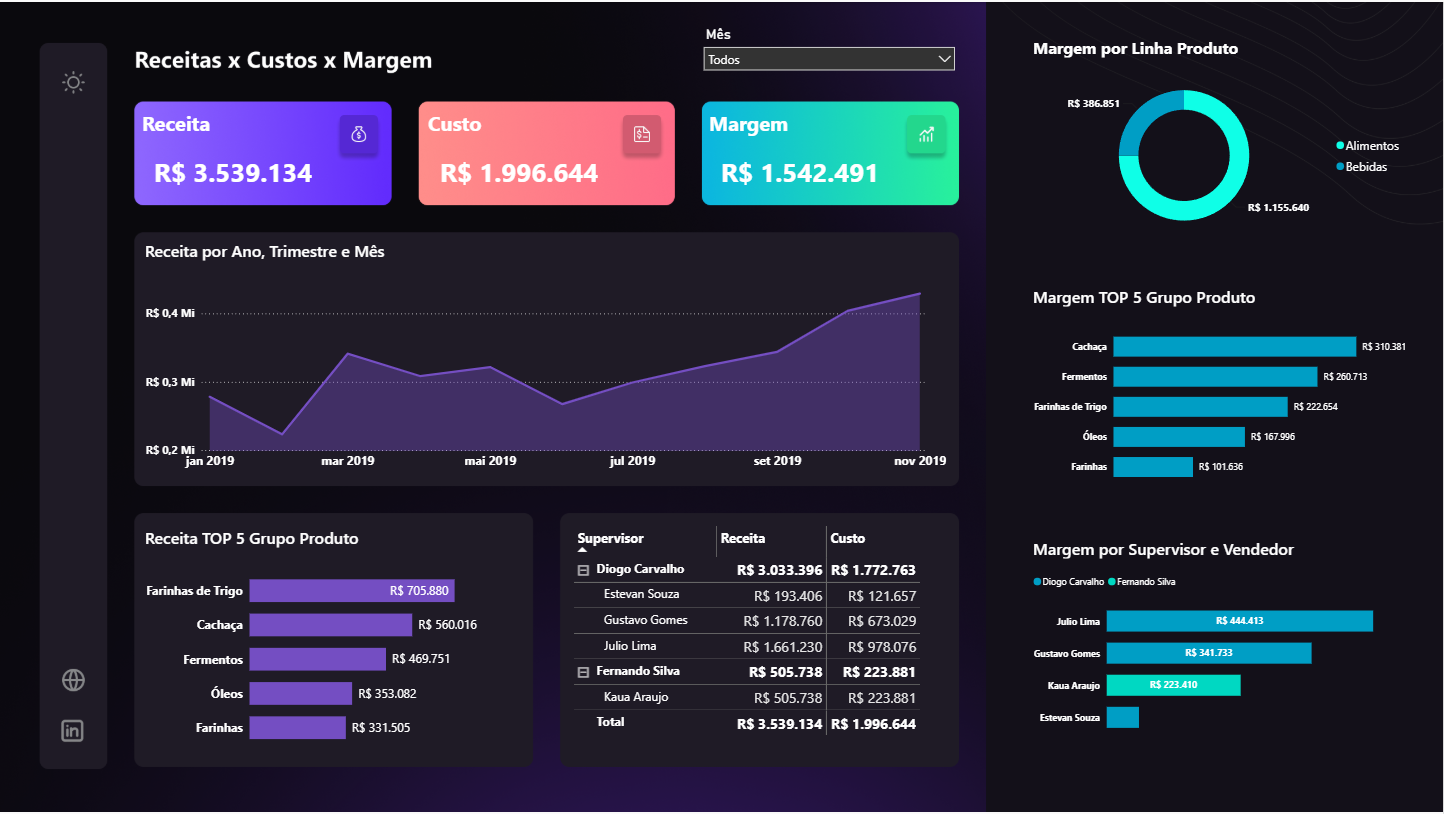

The page's visual inventory and layout, read from the dashboard file:
{"tool":"powerbi","page":{"name":"Página 1","canvas":[1920,1080],"ordinal":0},"visuals":[{"type":"cardVisual","title":"Receita","fields":{"Data":["Vendas.R$ Receita"]},"box":[190.5,142.1,331.1,114.9],"z":0},{"type":"cardVisual","title":"Custo","fields":{"Data":["Vendas.R$ Custo"]},"box":[570,142.1,331.1,114.9],"z":1000},{"type":"cardVisual","title":"Margem","fields":{"Data":["Vendas.R$ Margem"]},"box":[944.9,142.1,331.1,114.9],"z":2000},{"type":"areaChart","title":"Receita por Ano, Trimestre e Mês","fields":{"Category":["Vendas.Datas.Variation.Hierarquia de datas.Ano","Vendas.Datas.Variation.Hierarquia de datas.Trimestre","Vendas.Datas.Variation.Hierarquia de datas.Mês"],"Y":["Vendas.R$ Receita"]},"box":[178.4,302.4,1097.6,340.2],"z":3000},{"type":"barChart","title":"Receita TOP 5 Grupo Produto","fields":{"Category":["Produtos.Grupo Produto"],"Y":["Vendas.R$ Receita"]},"box":[178.4,683.3,529.1,332.6],"z":4000},{"type":"donutChart","title":"Margem por Linha Produto","fields":{"Category":["Produtos.Linha Produto"],"Y":["Vendas.R$ Margem"]},"box":[1359.6,31.7,528.7,302.1],"z":5000},{"type":"barChart","title":"Margem TOP 5 Grupo Produto","fields":{"Category":["Produtos.Grupo Produto"],"Y":["Vendas.R$ Margem"]},"box":[1359.6,362.5,528.7,302.1],"z":6000},{"type":"barChart","title":"Margem por Supervisor e Vendedor","fields":{"Category":["Vendas.Vendedor"],"Series":["Vendas.Supervisor"],"Y":["Vendas.R$ Margem"]},"box":[1359.6,697.9,528.7,302.1],"z":7000},{"type":"pivotTable","fields":{"Rows":["Vendas.Supervisor","Vendas.Vendedor"],"Values":["Vendas.R$ Receita","Vendas.R$ Custo"]},"box":[749.3,682.8,525.7,332.3],"z":8000},{"type":"slicer","fields":{"Values":["Vendas.Datas.Variation.Hierarquia de datas.Mês"]},"box":[932.1,31.7,344.4,68],"z":8001}]}

Visuals, with their boxes on the page's 1920x1080 design canvas (x1, y1, x2, y2). These are canvas units, not pixel positions in the 1444x814 screenshot, which may show the page scaled, cropped or inside an application window:
"Receita" cardVisual: <box>190,142,522,257</box>
"Custo" cardVisual: <box>570,142,901,257</box>
"Margem" cardVisual: <box>945,142,1276,257</box>
"Receita por Ano, Trimestre e Mês" areaChart: <box>178,302,1276,643</box>
"Receita TOP 5 Grupo Produto" barChart: <box>178,683,708,1016</box>
"Margem por Linha Produto" donutChart: <box>1360,32,1888,334</box>
"Margem TOP 5 Grupo Produto" barChart: <box>1360,362,1888,665</box>
"Margem por Supervisor e Vendedor" barChart: <box>1360,698,1888,1000</box>
pivotTable - Vendas.Supervisor x Vendas.Vendedor: <box>749,683,1275,1015</box>
slicer - Vendas.Datas.Variation.Hierarquia de datas.Mês: <box>932,32,1276,100</box>
